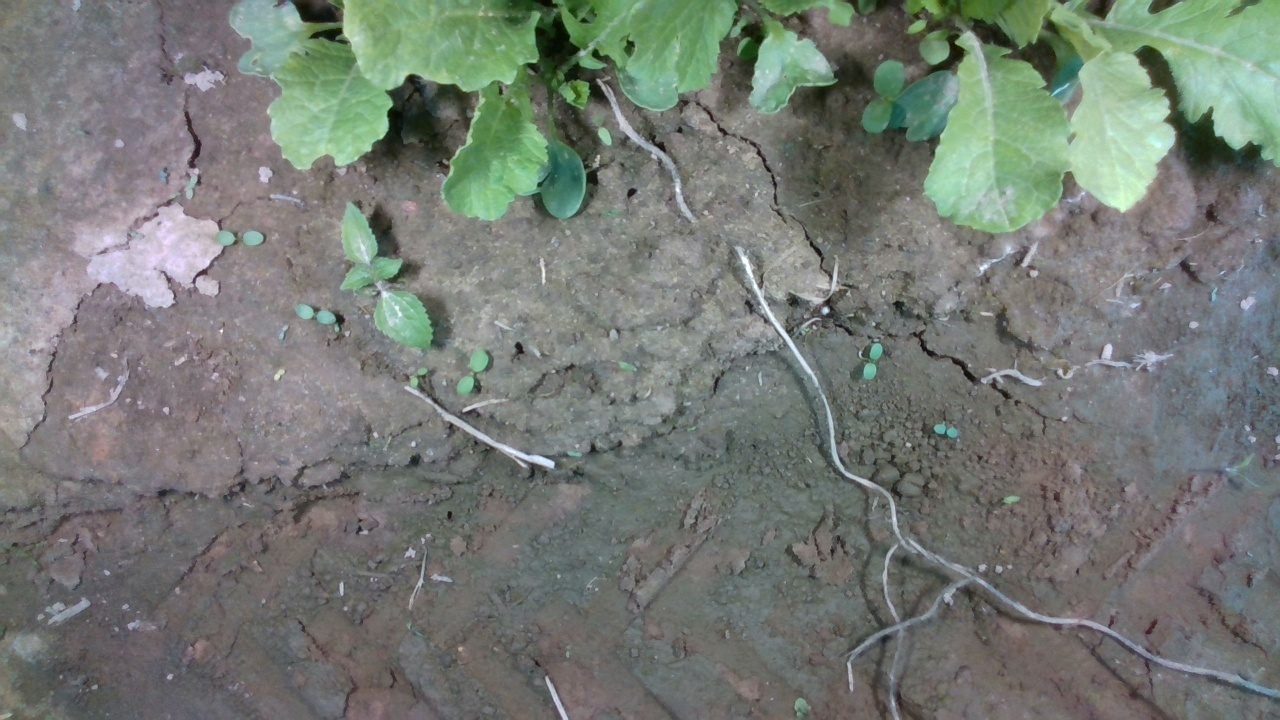weed: (210, 229, 267, 248)
